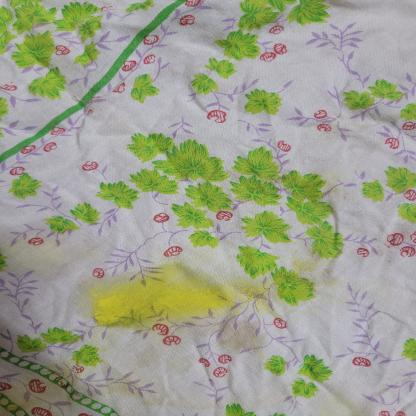spot: (68, 236, 363, 334), (3, 201, 124, 285)
